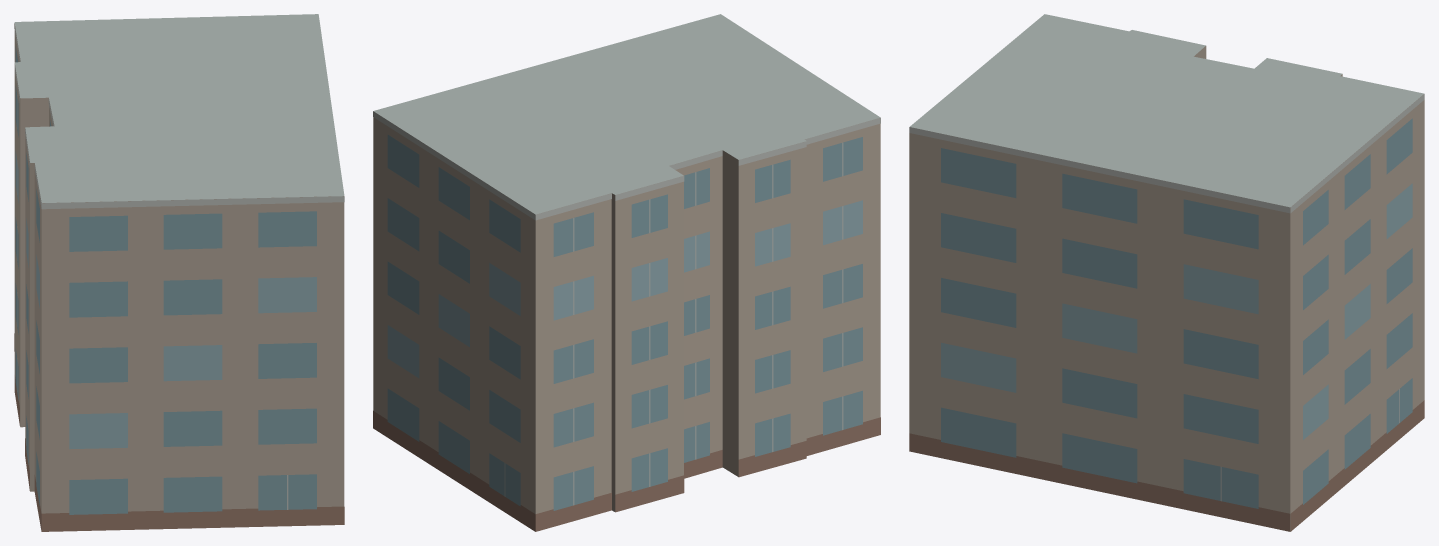
The model's file is survey-upis-32946450.glb.
3 renders of one model, left to right at view 1: azimuth 30°, elevation 25°; view 2: azimuth 150°, elevation 25°; view 3: azimuth 270°, elevation 25°, orthographic. The views are drawn at different scales.
Visible parts, largest first — view 1: survey-upis-32946450.tmp; view 2: survey-upis-32946450.tmp; view 3: survey-upis-32946450.tmp.
Boxes of the visible parts, bbox=[...] form: survey-upis-32946450.tmp: bbox=[14, 14, 344, 531]; survey-upis-32946450.tmp: bbox=[373, 14, 880, 531]; survey-upis-32946450.tmp: bbox=[909, 14, 1424, 531].
Bounding box in the file's own units: 16.75 × 13.1 × 18.86.
